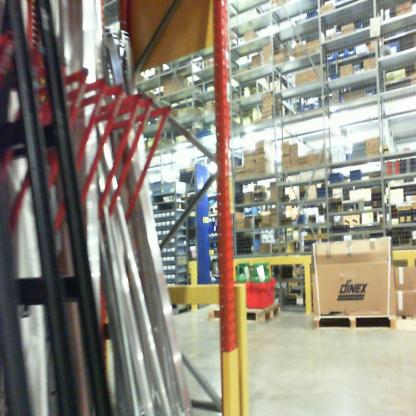pallet: (206, 298, 287, 326), (309, 314, 400, 333)
small_load_carrier: (252, 275, 282, 310), (225, 277, 252, 310)
